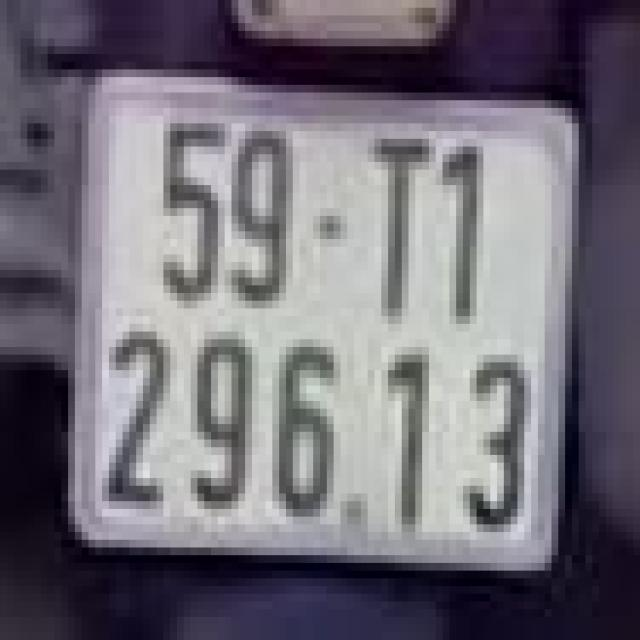1: (374, 339, 442, 540), (432, 131, 494, 332)
2: (89, 324, 177, 509)
3: (456, 335, 538, 536)
5: (146, 112, 228, 312)
6: (259, 332, 347, 524)
9: (177, 320, 259, 528), (228, 124, 303, 316)
T: (368, 120, 436, 328)
